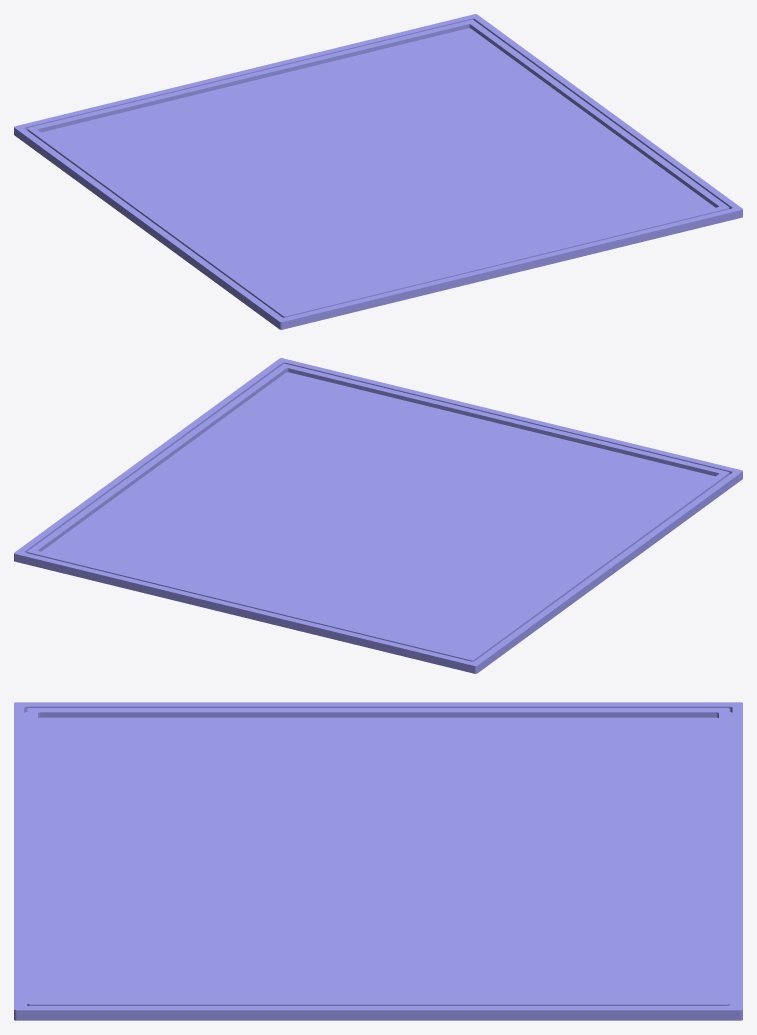
File: PartBody 15.FBX
The picture shows the model from 3 angles, top to bottom: view 1: azimuth 30°, elevation 25°; view 2: azimuth 150°, elevation 25°; view 3: azimuth 270°, elevation 25°; orthographic projection. The views are drawn at different scales.
Visible parts, largest first — view 1: PartBody; view 2: PartBody; view 3: PartBody.
Part boxes in pixels (<box>): PartBody: <box>14,14,742,329</box>; PartBody: <box>14,358,742,673</box>; PartBody: <box>14,702,742,1020</box>.
Bounding box in the file's own units: 244 × 244 × 3.9.
